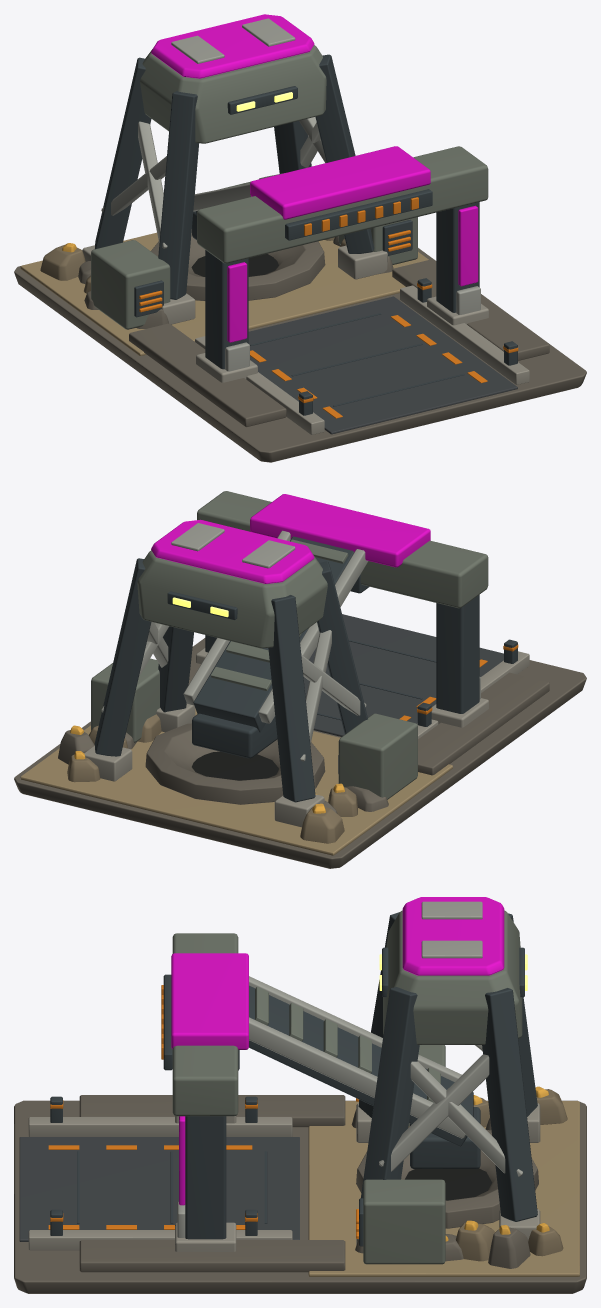
Rendered from mine-upgraded.glb.
3 renders of one model, top to bottom at view 1: azimuth 30°, elevation 25°; view 2: azimuth 150°, elevation 25°; view 3: azimuth 270°, elevation 25°, orthographic. The views are drawn at different scales.
Parts seen in each view (by area): view 1: MineShell; view 2: MineShell; view 3: MineShell.
Part boxes in pixels (x1,y1,x2,y2): MineShell: (14, 14, 586, 462); MineShell: (14, 491, 586, 868); MineShell: (14, 897, 586, 1293).
Size of the model in its own units: 2.97 by 2.12 by 3.97.
